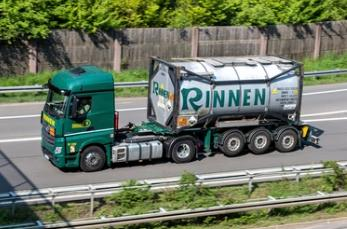vehicle: (41, 55, 319, 172)
